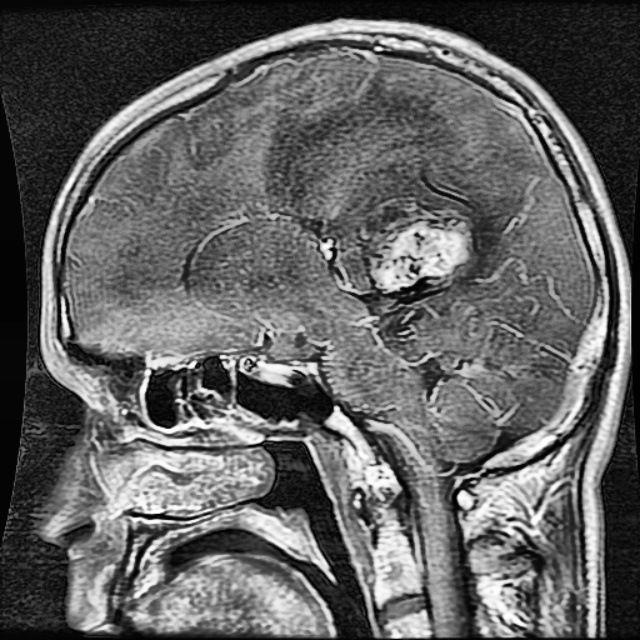Meningioma: (370, 207, 478, 305)
